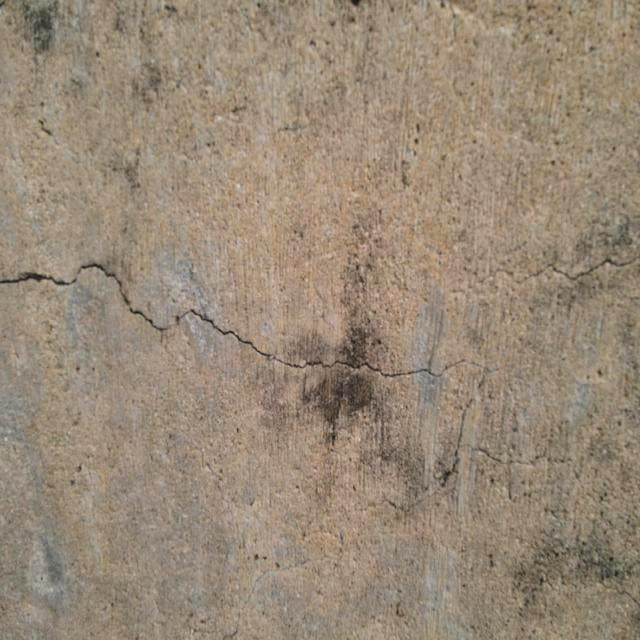SurfaceCrack: (1, 228, 640, 423)
